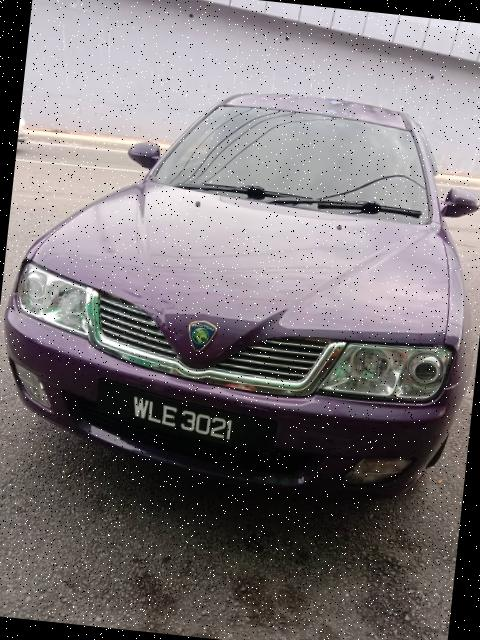License_Plate: (113, 385, 254, 463)
car: (1, 66, 480, 539)
